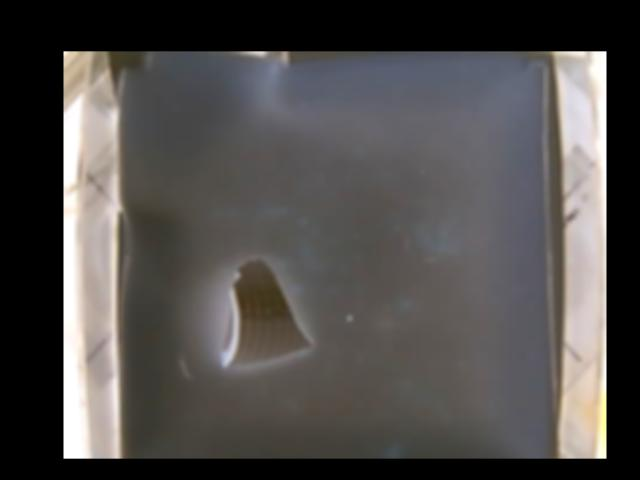China: (220, 260, 314, 368)
